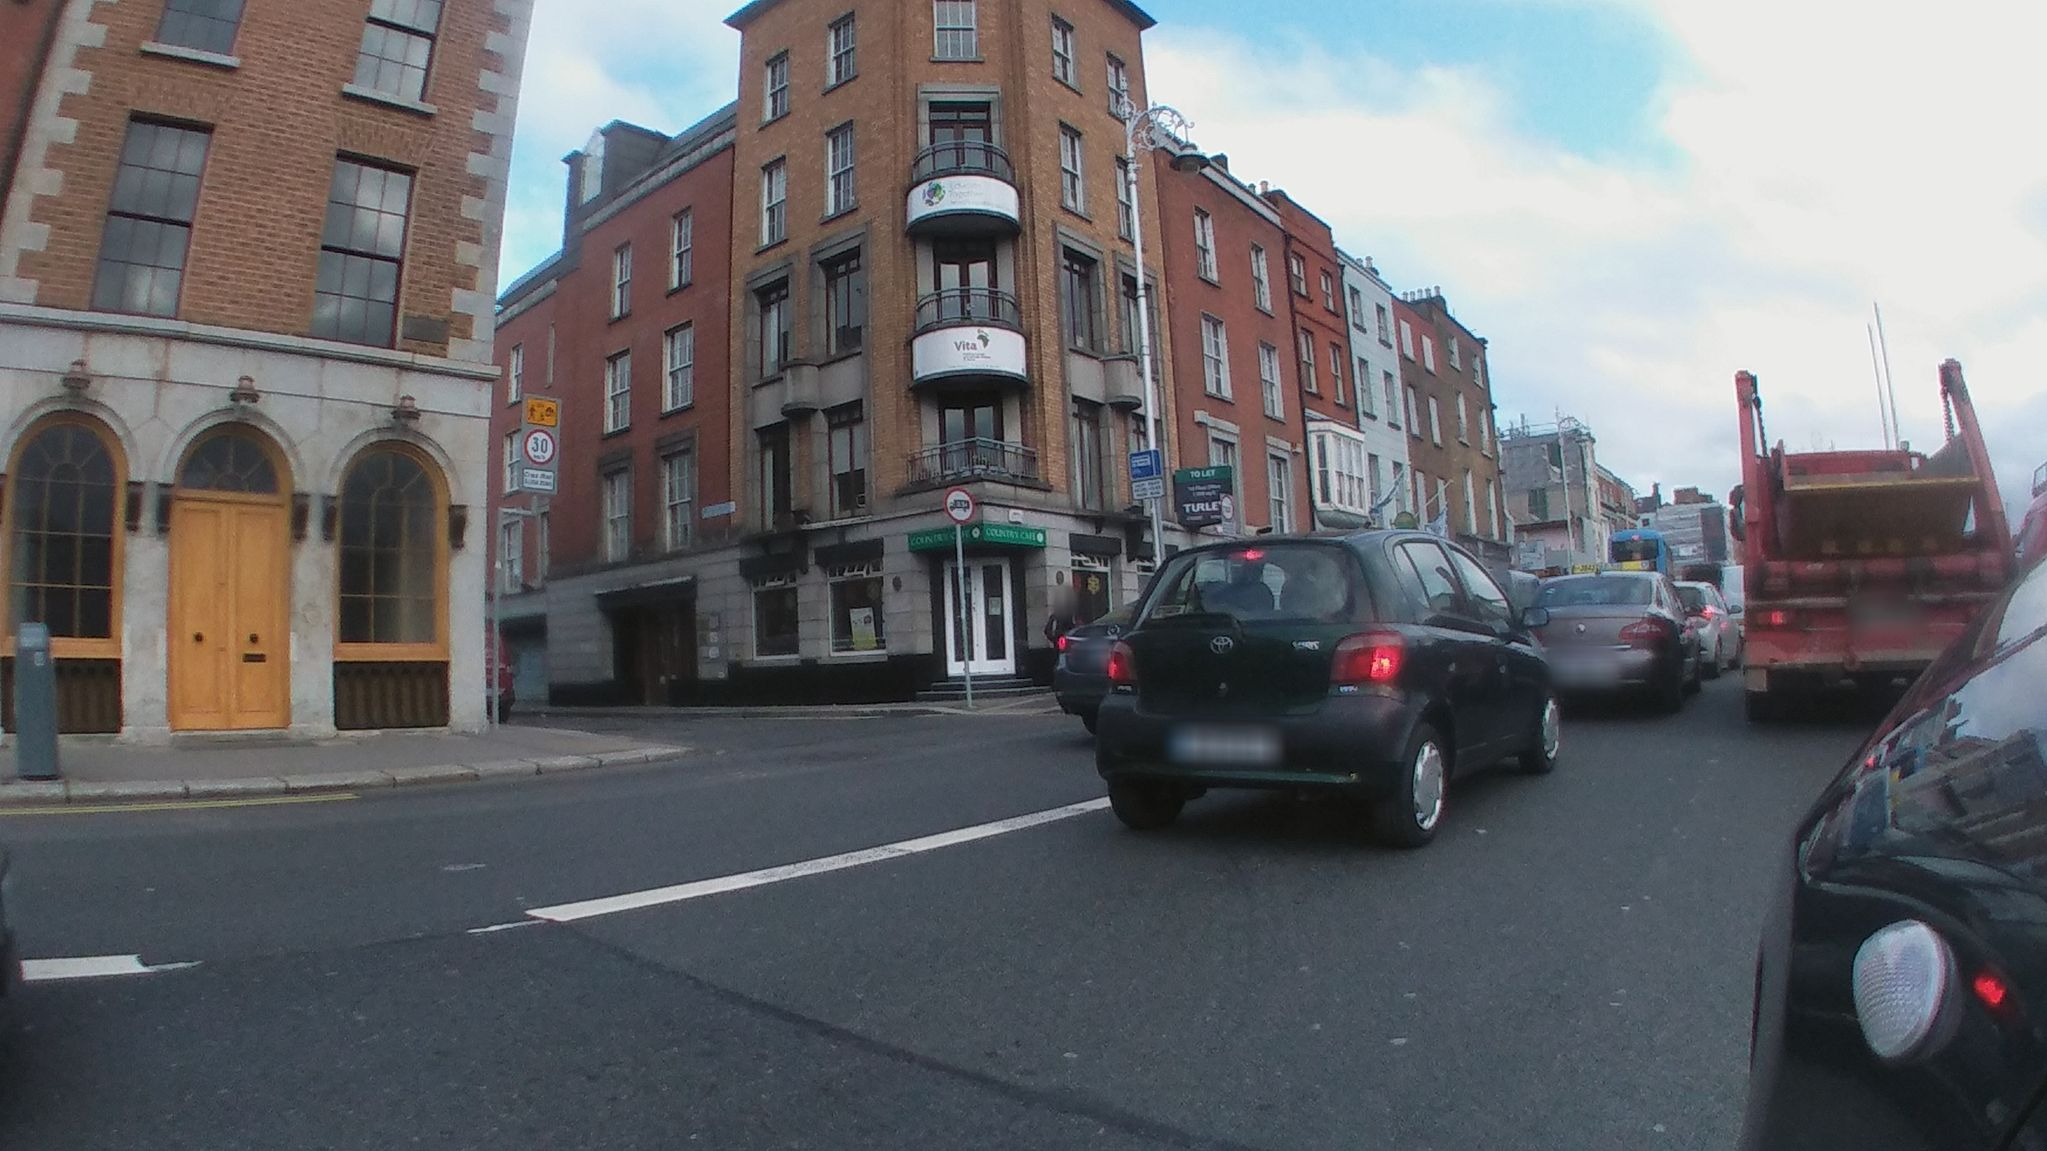property sign: (1163, 460, 1251, 534)
